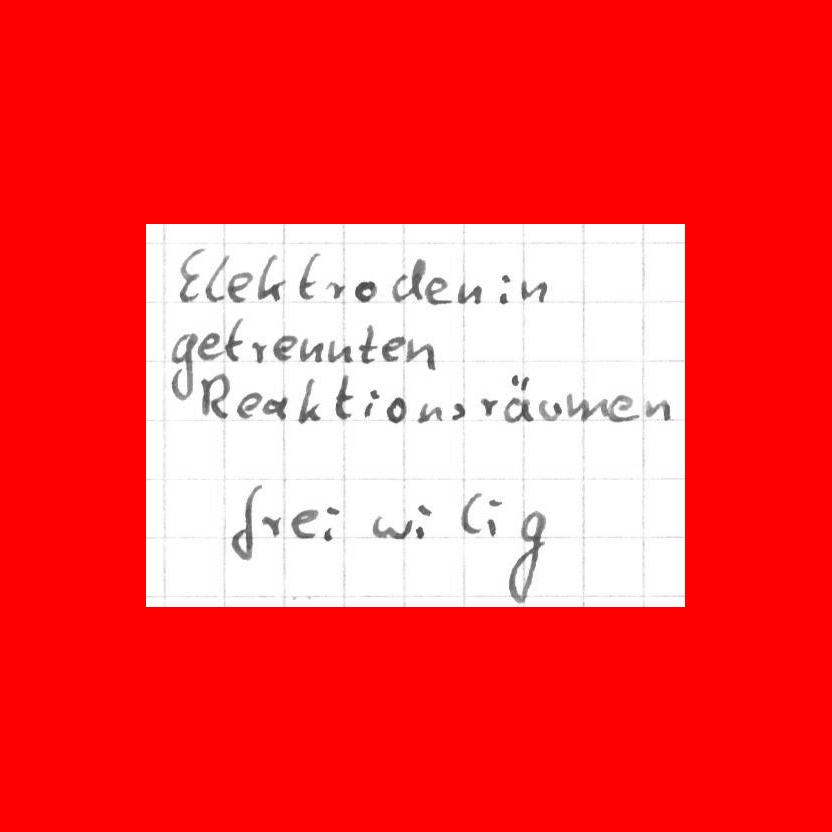Char: (506, 502, 548, 606), (227, 482, 262, 562), (168, 327, 195, 405), (174, 246, 204, 307), (501, 372, 535, 424), (389, 256, 425, 305), (256, 250, 287, 304), (199, 371, 231, 421), (296, 377, 324, 426), (204, 252, 228, 306), (296, 250, 319, 301), (371, 514, 410, 543), (567, 393, 604, 423), (333, 372, 355, 422), (458, 491, 481, 537), (290, 507, 319, 541), (405, 339, 436, 370), (225, 316, 245, 364), (607, 391, 637, 423), (357, 322, 378, 363), (197, 330, 222, 364), (320, 503, 341, 543), (228, 272, 254, 303), (456, 279, 483, 306), (643, 395, 670, 422), (519, 279, 548, 304), (414, 501, 433, 539), (425, 275, 449, 305), (486, 493, 502, 538), (262, 394, 289, 420), (272, 333, 297, 361), (416, 400, 442, 426), (298, 336, 323, 363), (327, 340, 352, 366), (238, 390, 260, 419), (386, 394, 408, 423), (381, 335, 404, 362), (538, 397, 563, 421), (260, 514, 282, 540), (353, 279, 377, 302), (477, 393, 498, 419), (496, 271, 511, 307), (363, 388, 380, 419), (249, 340, 267, 366), (323, 278, 345, 299), (448, 399, 467, 422)
